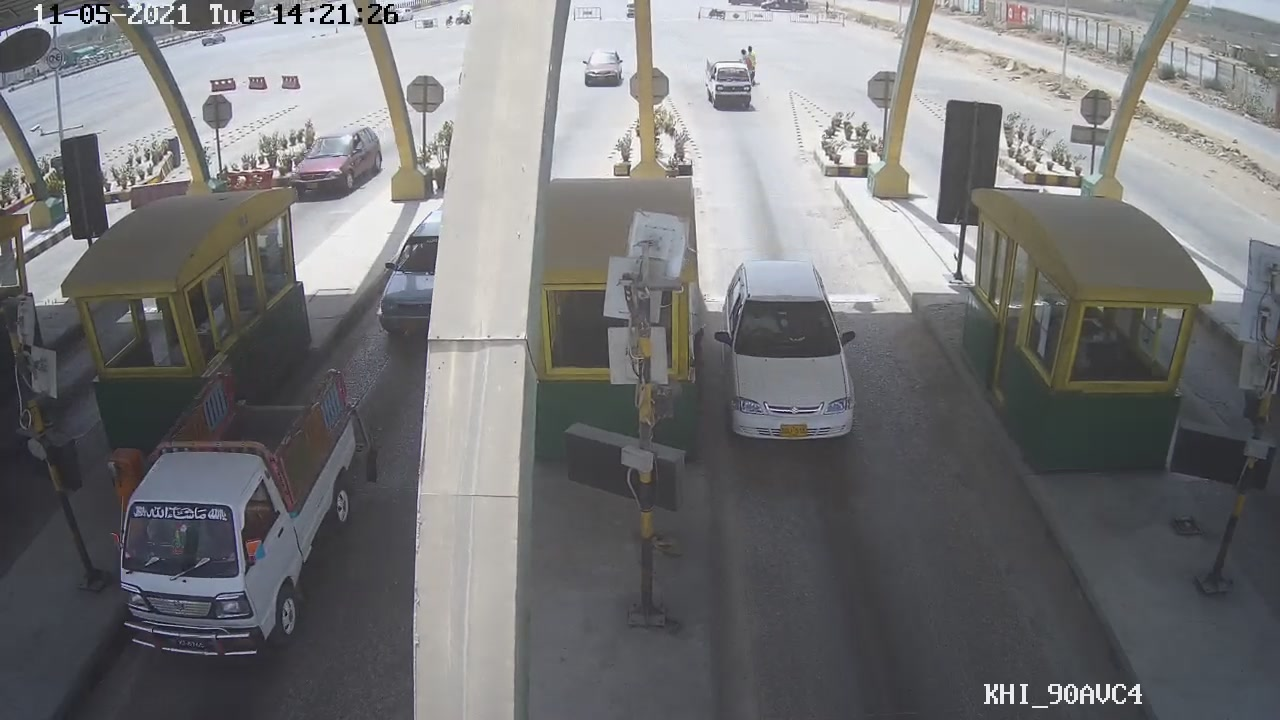F1: (718, 261, 865, 443)
